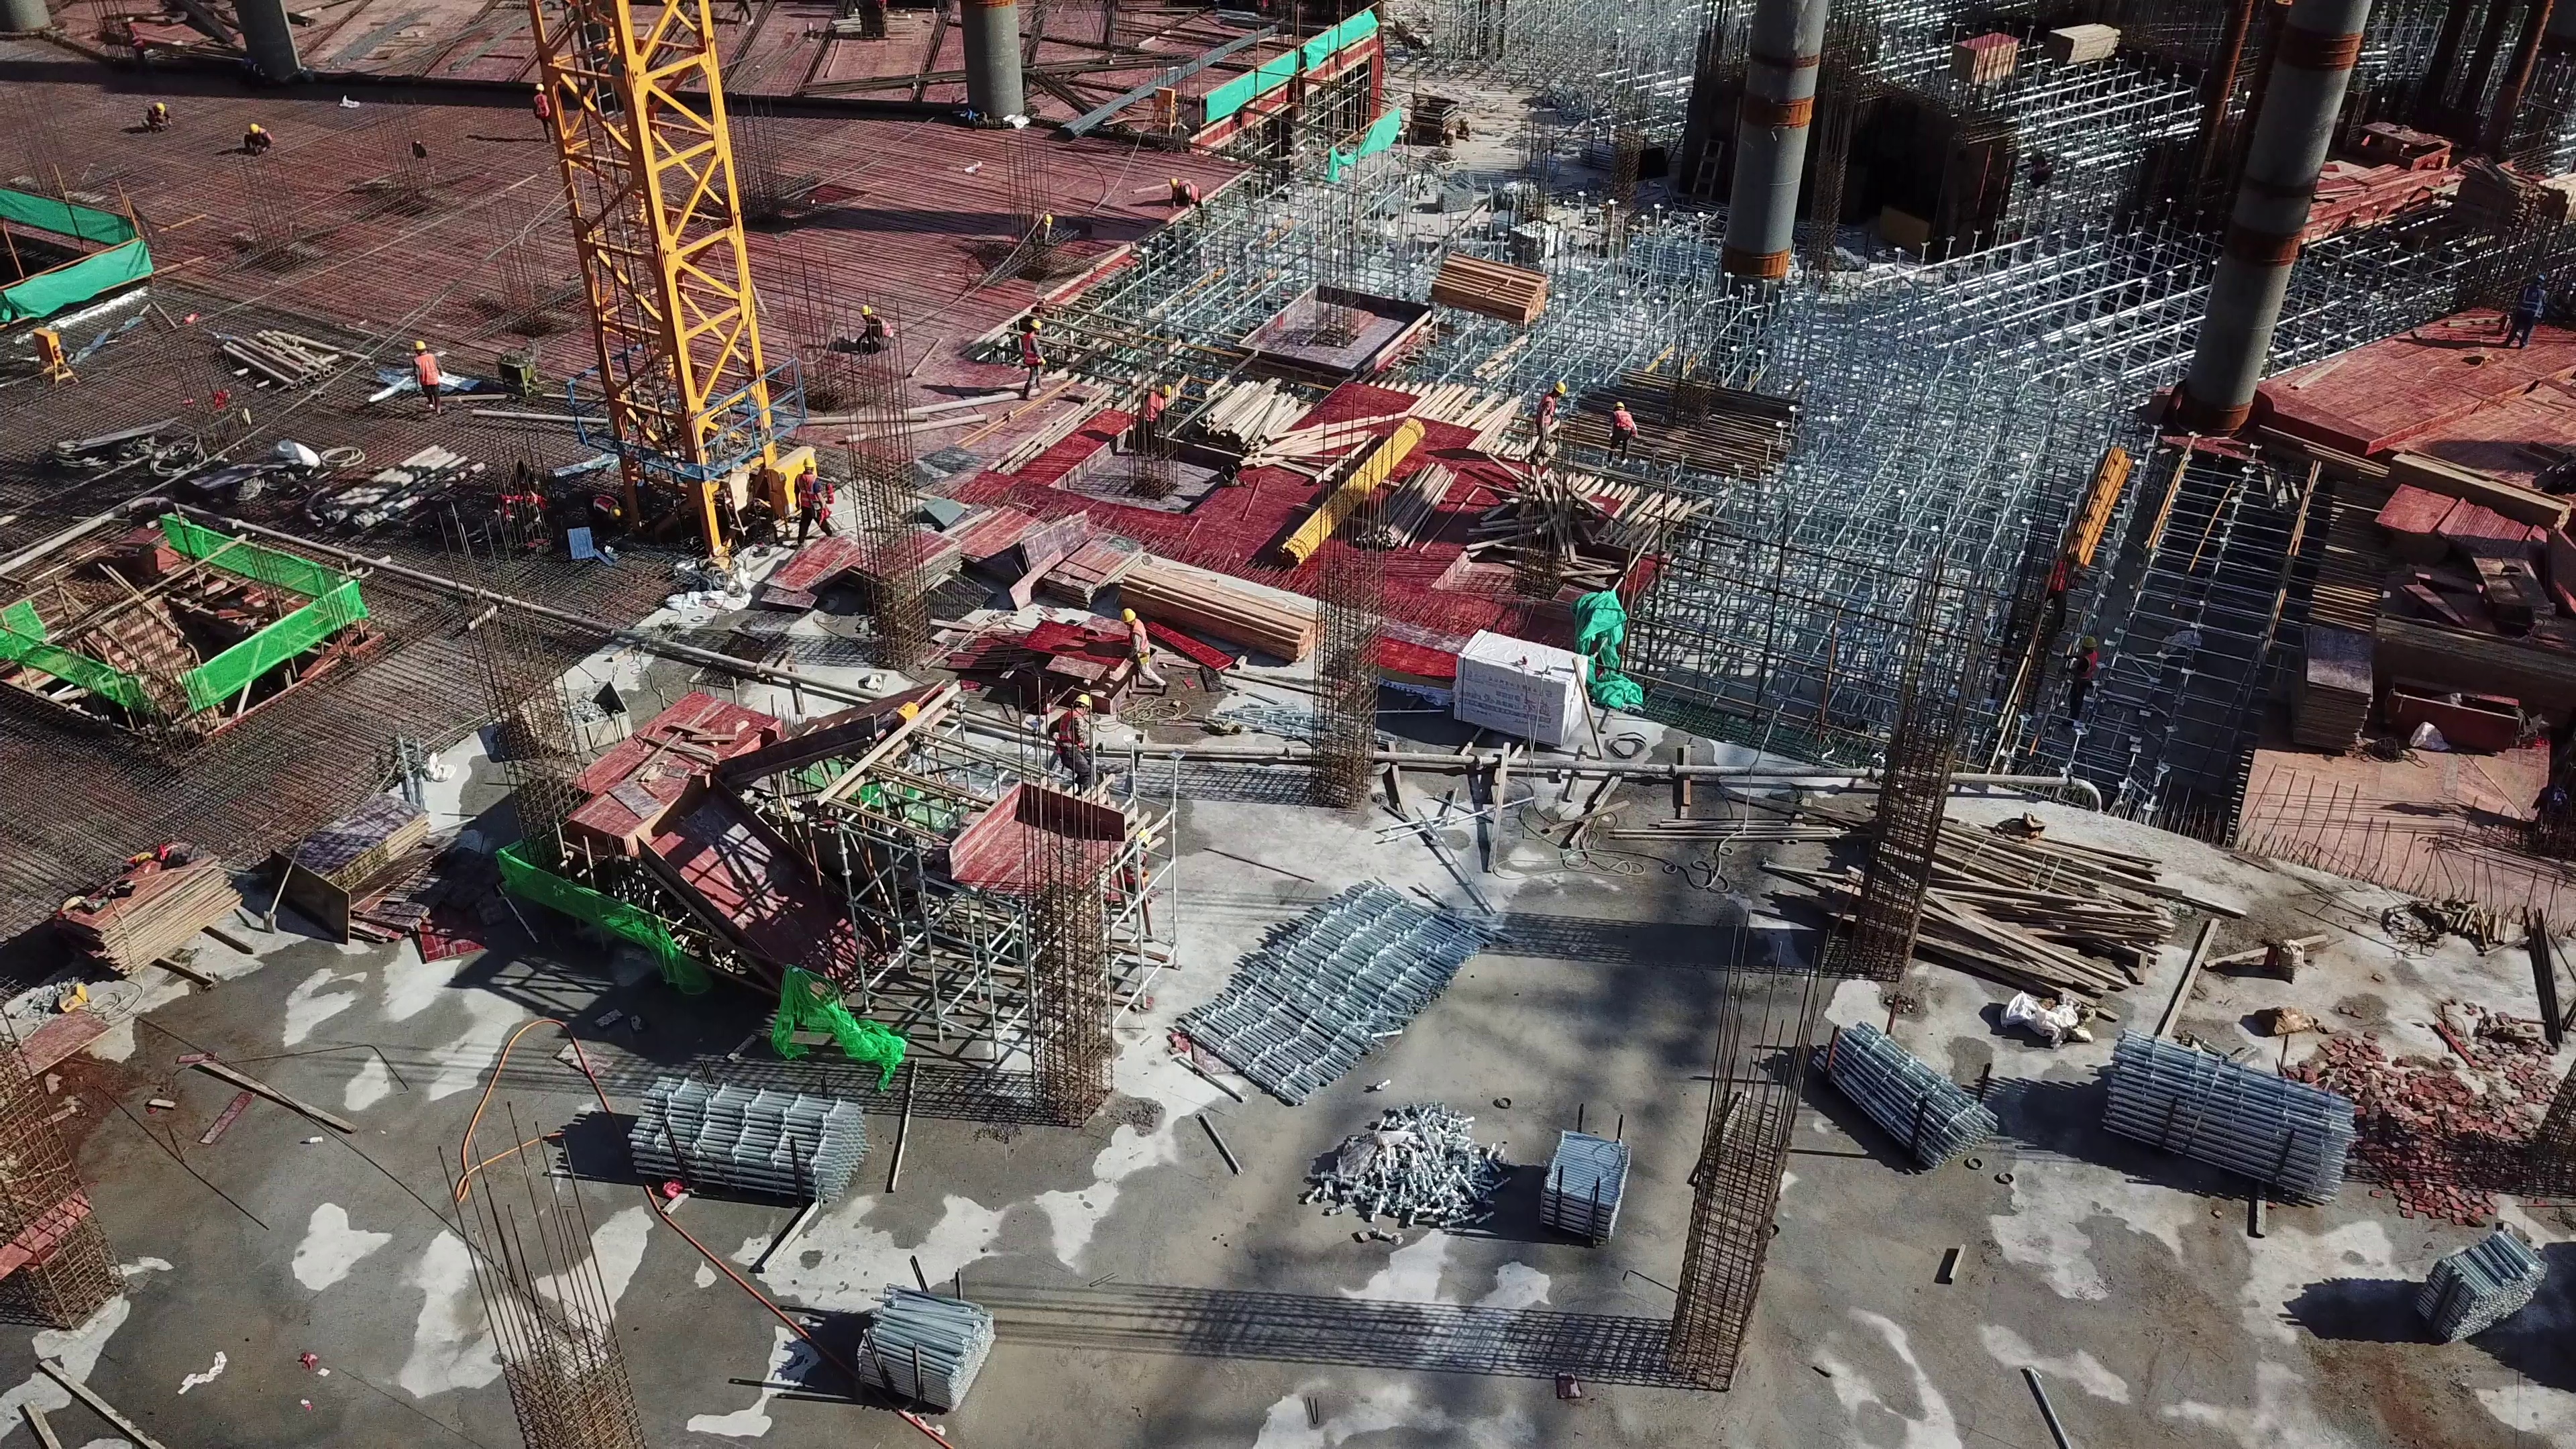board: (70, 841, 251, 984), (274, 792, 425, 952), (2298, 616, 2374, 747)
person: (779, 456, 837, 552), (1108, 599, 1158, 698), (1607, 389, 1660, 465), (1134, 383, 1178, 474), (1059, 684, 1093, 788), (857, 296, 904, 366), (1020, 307, 1053, 409), (1525, 378, 1561, 465), (411, 333, 446, 412)
scaffold: (1187, 864, 1450, 1104), (1297, 1112, 1636, 1249), (2102, 1039, 2353, 1205), (621, 1065, 875, 1199), (1811, 1034, 2009, 1168), (837, 1281, 991, 1430)
wood: (1796, 794, 2182, 1013), (1126, 549, 1327, 666), (1169, 372, 1350, 476)
